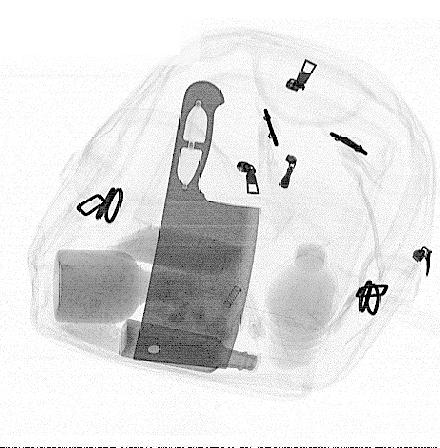Knife: (132, 81, 261, 370)
